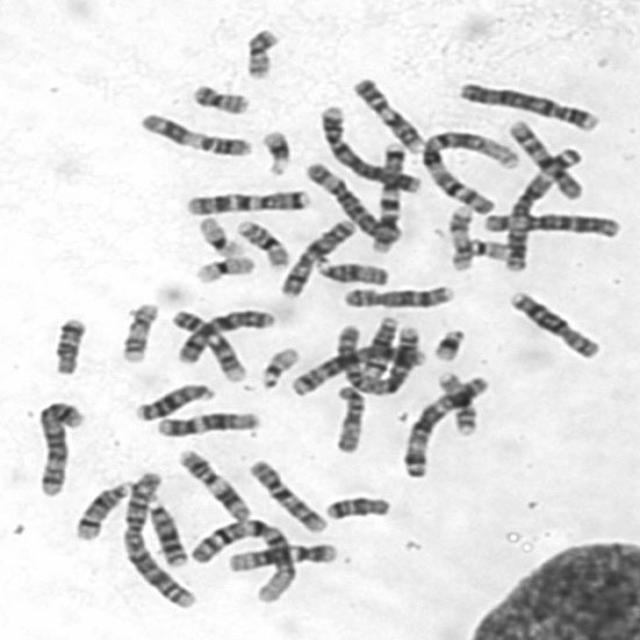A1: (188, 516, 299, 604), (417, 126, 522, 215)
A2: (120, 468, 198, 610), (332, 319, 422, 396)
A3: (500, 144, 584, 272), (398, 371, 492, 480)
B4: (316, 100, 424, 194), (454, 78, 602, 132)
B5: (296, 341, 429, 402), (31, 396, 87, 499)
C10: (506, 116, 584, 202), (245, 456, 329, 535)
C11: (133, 109, 255, 159), (174, 447, 252, 523)
C12: (224, 540, 338, 574), (154, 407, 262, 439)
C6: (302, 157, 404, 250), (476, 208, 624, 240)
C7: (368, 139, 408, 255), (182, 186, 312, 217)
C8: (506, 288, 603, 361), (338, 280, 455, 310)
C9: (168, 306, 248, 384), (350, 74, 425, 154)
D13: (132, 381, 215, 421), (144, 500, 188, 567)
D14: (70, 478, 134, 540), (355, 312, 402, 380)
D15: (330, 381, 368, 454), (312, 252, 391, 287)
E16: (432, 368, 480, 437), (232, 217, 292, 270)
E17: (116, 300, 160, 364), (446, 201, 475, 273)
E18: (48, 312, 90, 377), (322, 492, 392, 522)
F19: (190, 252, 258, 286), (194, 214, 246, 258)
F20: (240, 24, 282, 81), (189, 80, 251, 116)
G21: (258, 126, 294, 177), (430, 325, 468, 362)
G22: (257, 344, 301, 390), (464, 235, 508, 262)
X: (276, 215, 356, 298), (172, 306, 278, 366)
